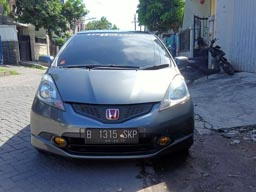plat: (84, 127, 138, 139)
